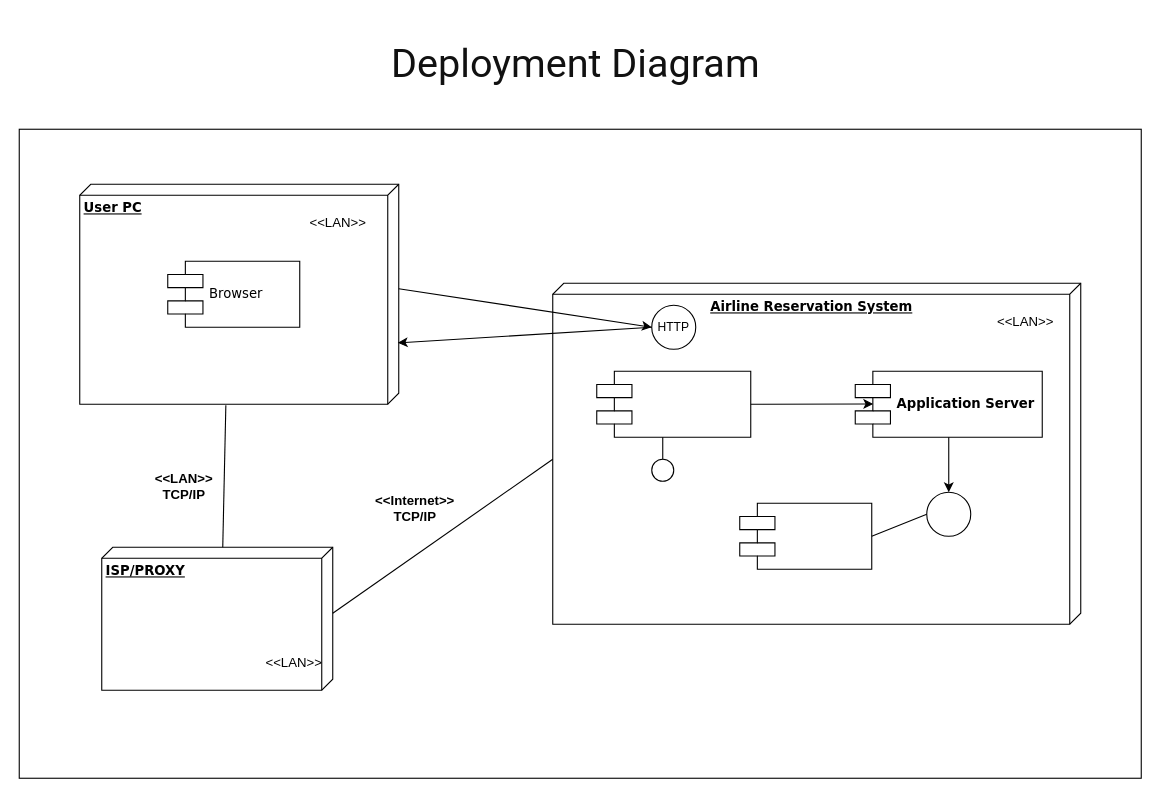
The diagram is 1161 pixels wide and 798 high, and some of its shapes have lost their labels. Here are the shapes that lost their labels. From the top down, the box of each, then its label:
(596, 370, 751, 437): Web Server
(926, 491, 971, 536): JDBC
(739, 502, 872, 569): MySQL
